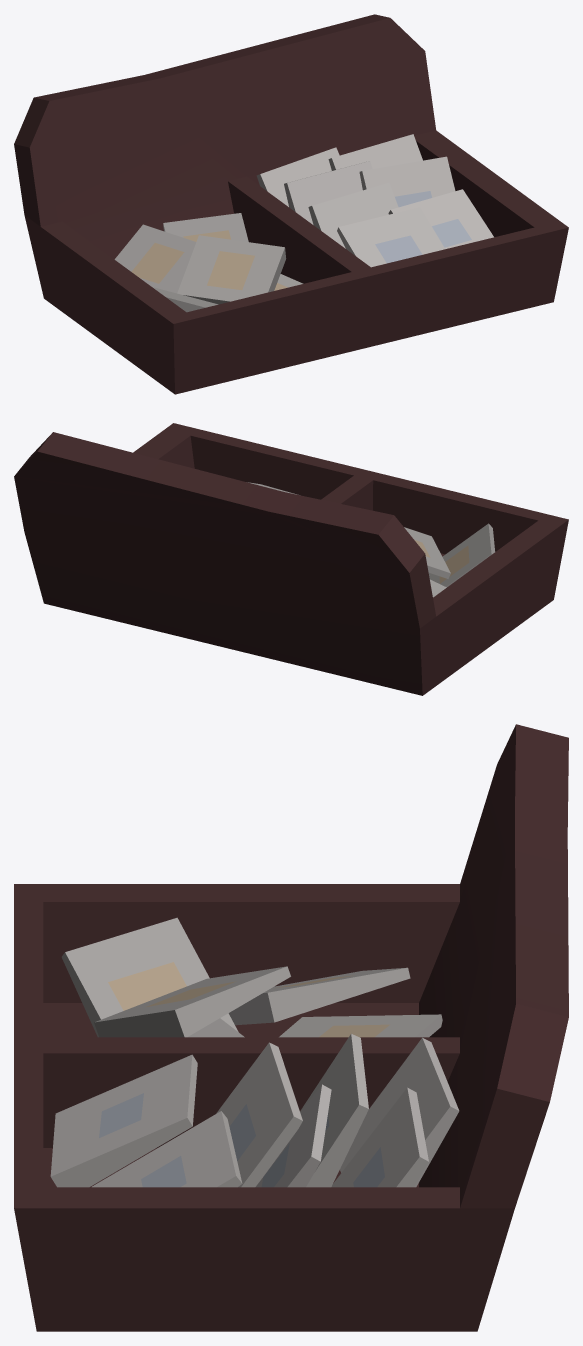
Rendered from SM_Prop_Cafe_Sugar_Box_01.obj.
The picture shows the model from 3 angles, top to bottom: view 1: azimuth 30°, elevation 25°; view 2: azimuth 150°, elevation 25°; view 3: azimuth 270°, elevation 25°; orthographic projection. The views are drawn at different scales.
Visible parts, largest first — view 1: SM_Prop_Cafe_Sugar_Box_01_0; view 2: SM_Prop_Cafe_Sugar_Box_01_0; view 3: SM_Prop_Cafe_Sugar_Box_01_0.
Part boxes in pixels (x1,y1,x2,y2): SM_Prop_Cafe_Sugar_Box_01_0: (14,14,568,394); SM_Prop_Cafe_Sugar_Box_01_0: (14,423,568,695); SM_Prop_Cafe_Sugar_Box_01_0: (14,724,568,1331).
Bounding box in the file's own units: 0.2302 × 0.1029 × 0.1665.
Materials: 1 (1 with a texture image).
